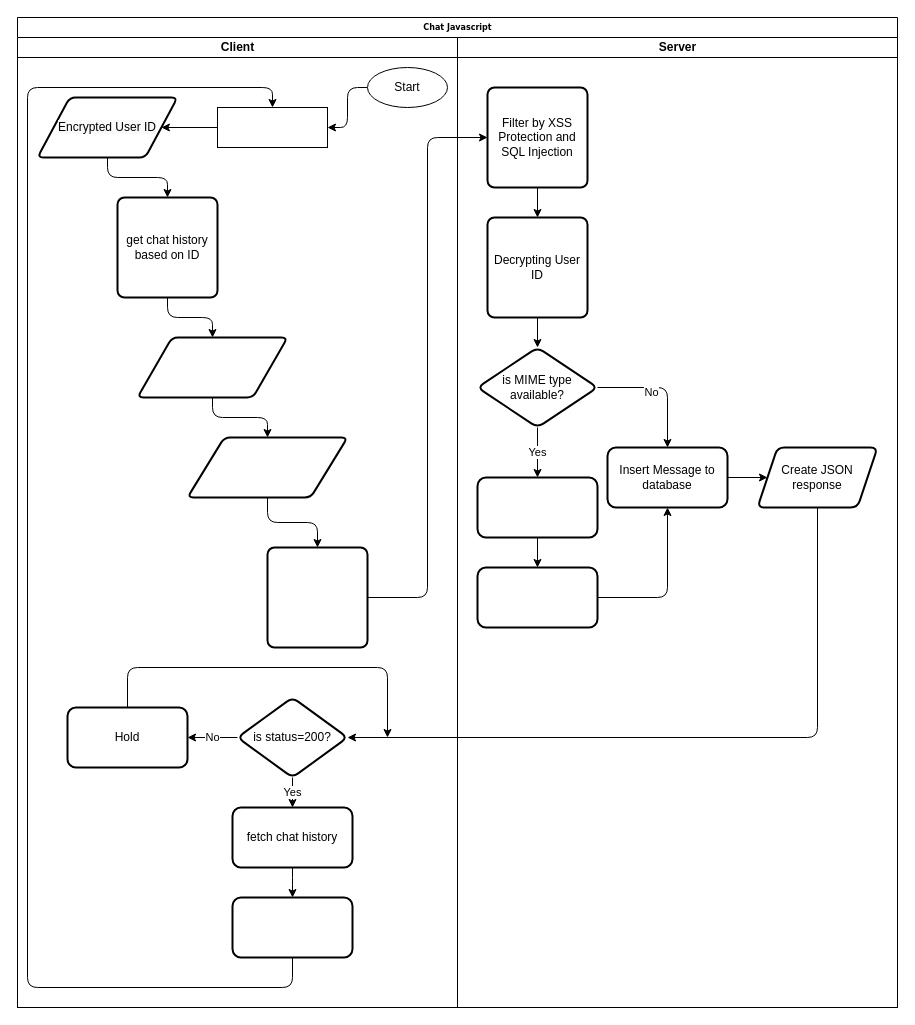
The diagram is 915 pixels wide and 1025 high, and some of its shapes have lost their labels. Here are the shapes that lost their labels. From the top down, the centre of each, then its label:
At point (272, 127): "fetch notification".
At point (212, 367): "show to html views".
At point (267, 467): "Message from Input".
At point (537, 507): "get file detail".
At point (317, 597): "Filter input by trim and pre_match regex from script injection (JQuery)".
At point (537, 597): "save file to path".
At point (292, 927): "Sent".
